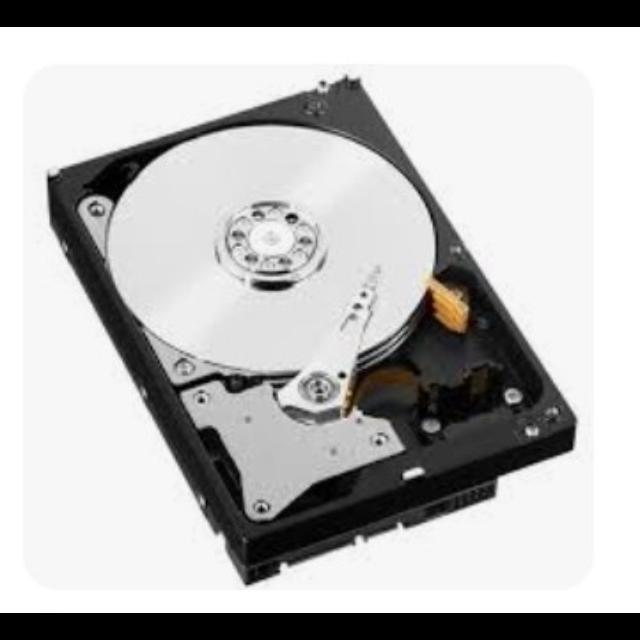HDD: (46, 78, 578, 587)
